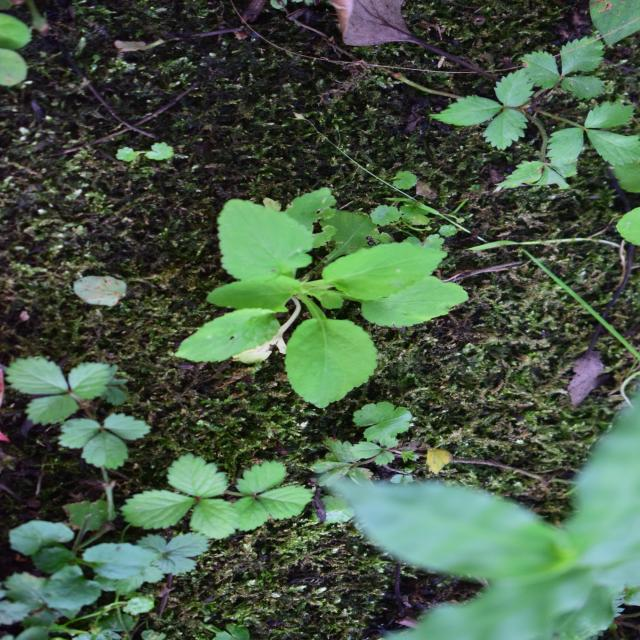Viola: (180, 188, 413, 442)
